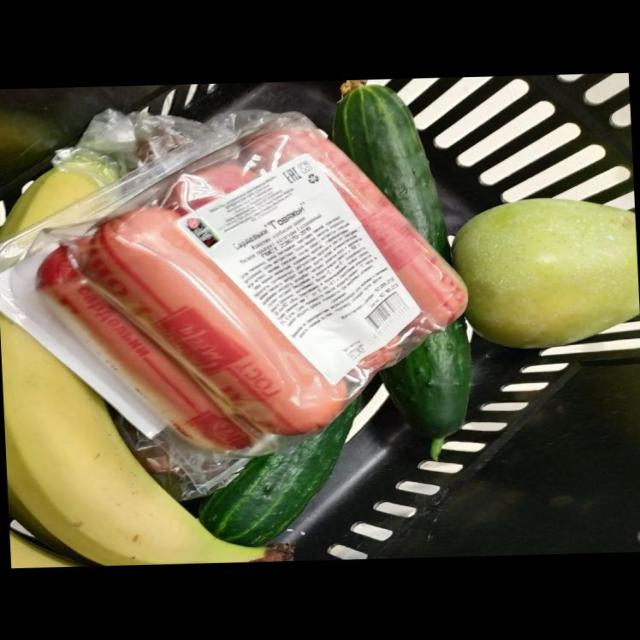apple: (281, 93, 640, 304)
banana: (0, 241, 30, 640), (0, 123, 31, 346)
cucumber: (235, 161, 640, 479), (162, 214, 451, 640), (150, 54, 516, 226)
